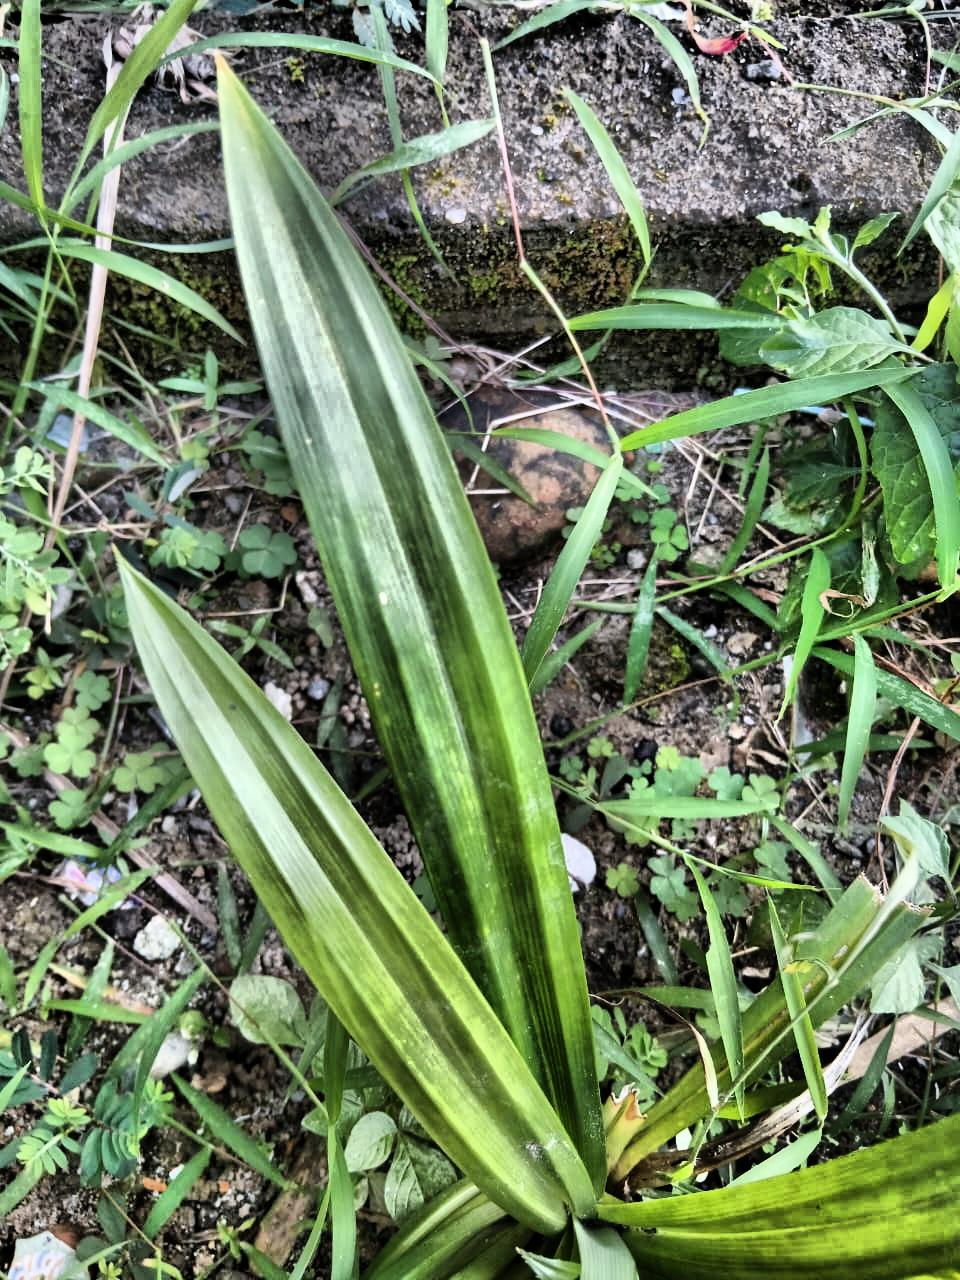daun pandan: (118, 59, 959, 1279)
